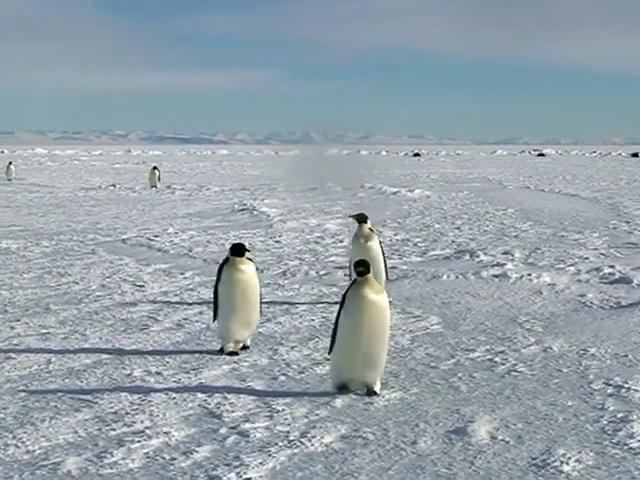animal: (350, 214, 390, 287)
